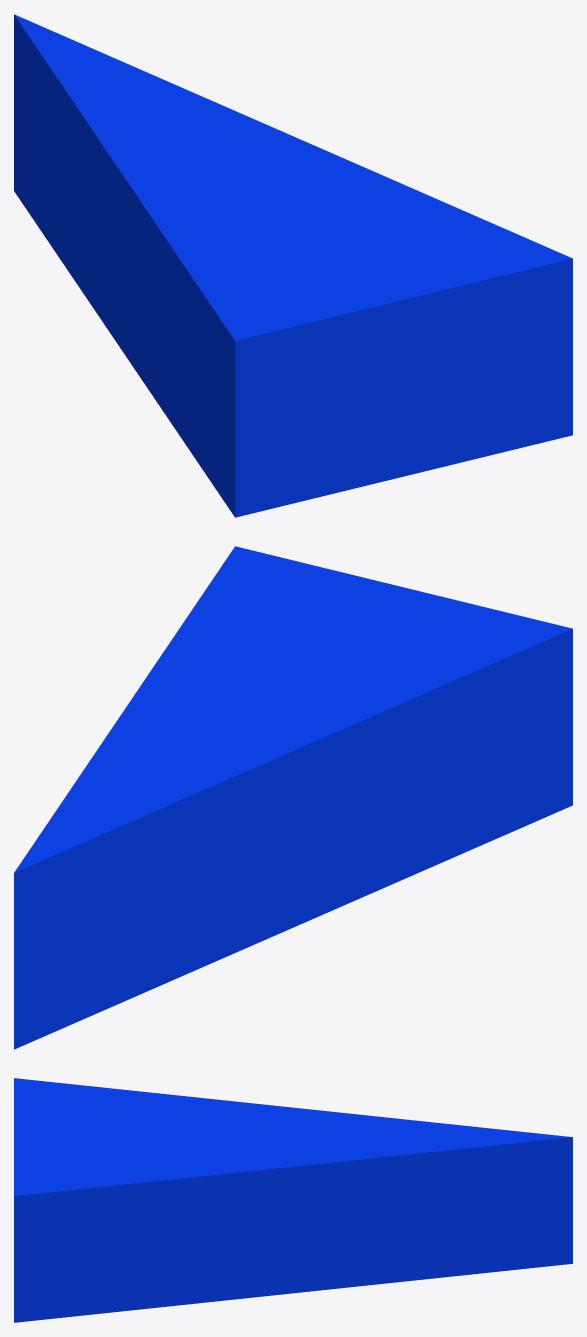
File: miniMapArrow.glb
3 views of the same model, one above another, from view 1: azimuth 30°, elevation 25°; view 2: azimuth 150°, elevation 25°; view 3: azimuth 270°, elevation 25° (orthographic). The views are drawn at different scales.
Parts seen in each view (by area): view 1: minimap_arrow; view 2: minimap_arrow; view 3: minimap_arrow.
Part boxes in pixels (bbox=[...]): minimap_arrow: bbox=[14, 14, 572, 517]; minimap_arrow: bbox=[14, 546, 572, 1049]; minimap_arrow: bbox=[14, 1078, 572, 1322].
Size of the model in its own units: 2 by 1 by 4.
